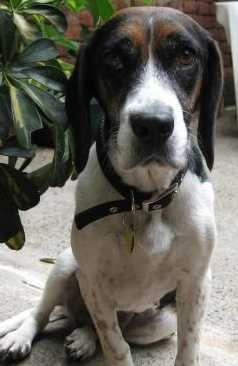Dog: (0, 6, 223, 362)
